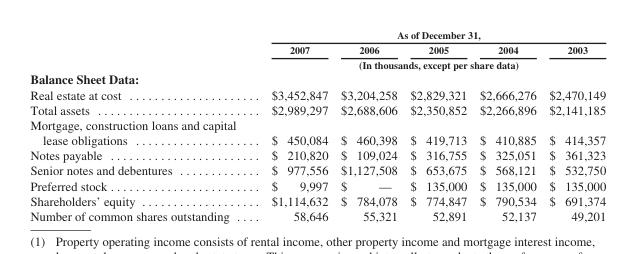table: (29, 28, 605, 222)
table column: (29, 28, 253, 222), (253, 28, 333, 222), (333, 28, 403, 222), (472, 28, 542, 222), (403, 28, 472, 222), (542, 28, 605, 222)
table column header: (29, 28, 605, 71)
table projected row header: (29, 71, 605, 86)
table row: (29, 117, 605, 147), (29, 41, 605, 57), (29, 101, 605, 117), (29, 71, 605, 86), (29, 86, 605, 101), (29, 147, 605, 162), (29, 162, 605, 177), (29, 177, 605, 192), (29, 192, 605, 207), (29, 207, 605, 222), (29, 57, 605, 71), (29, 28, 605, 41)
table spanning cell: (253, 57, 605, 71), (253, 28, 605, 41)
